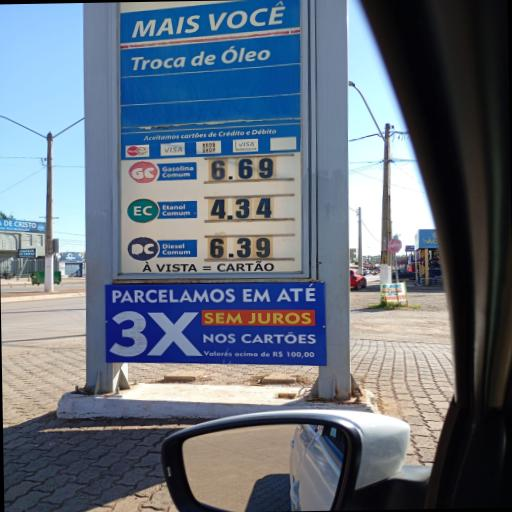ETANOL: (127, 195, 207, 229)
GASOLINA C: (128, 159, 201, 188)
S500: (129, 235, 199, 262)
placa: (122, 153, 306, 275)
preco: (207, 193, 280, 226), (206, 156, 280, 186), (206, 234, 278, 262)
